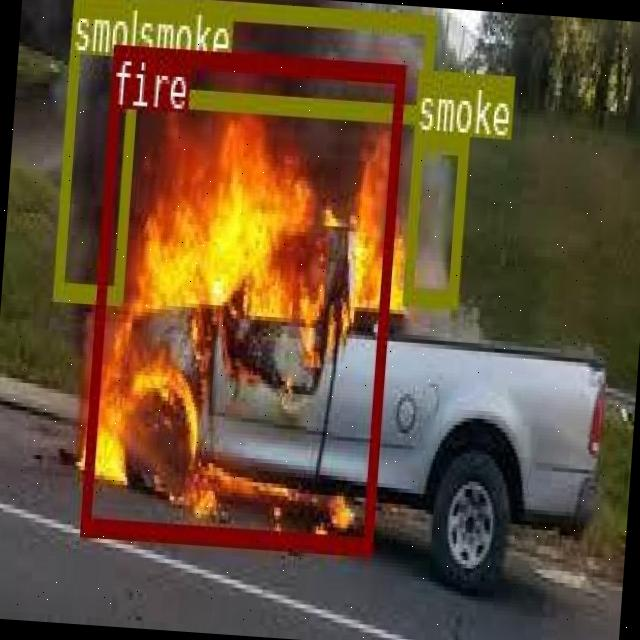fire: (79, 41, 403, 550)
smoke: (130, 0, 433, 120), (52, 0, 140, 299), (401, 131, 466, 304)
